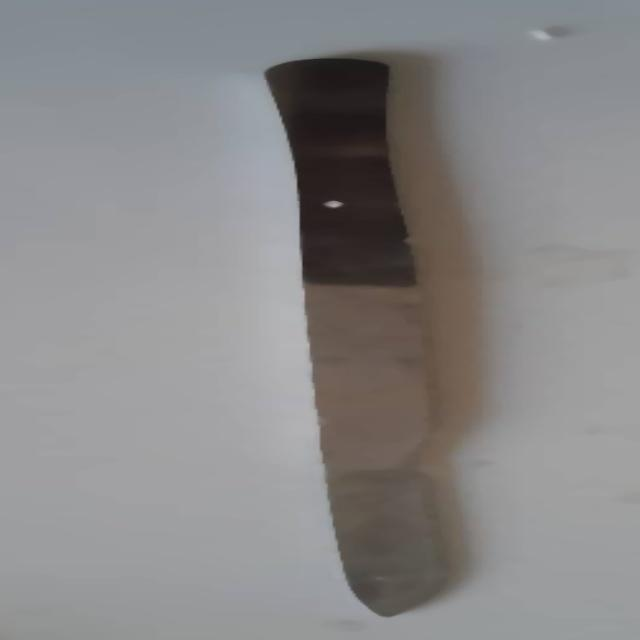Knife: (246, 47, 470, 619)
